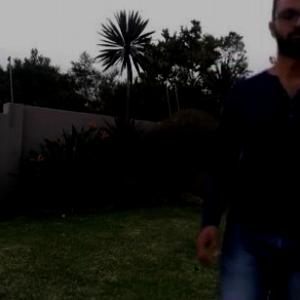follow: (210, 0, 299, 299)
